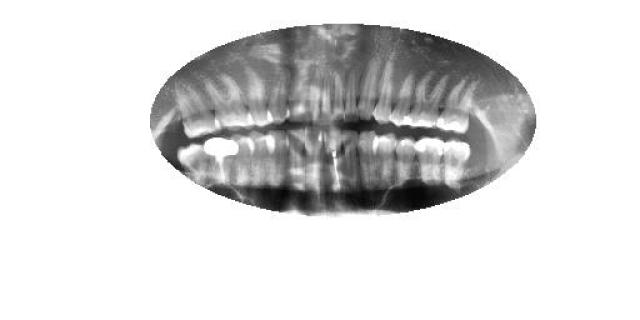Fillings: (436, 73, 479, 134), (408, 66, 447, 132), (415, 134, 445, 188), (442, 139, 470, 190), (390, 73, 415, 128)
Implant: (204, 135, 238, 186)
